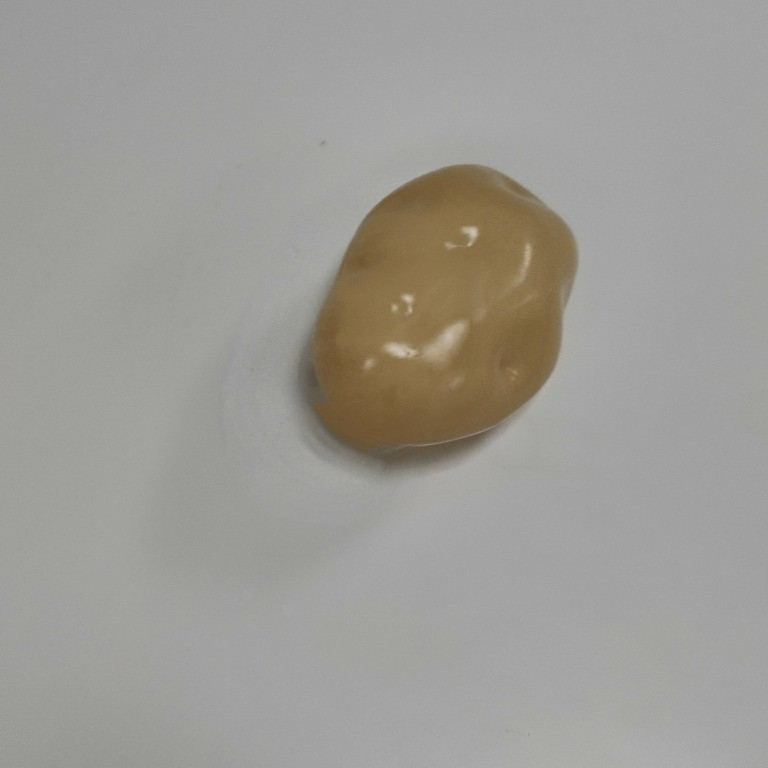fruit_potato: (302, 159, 584, 454)
